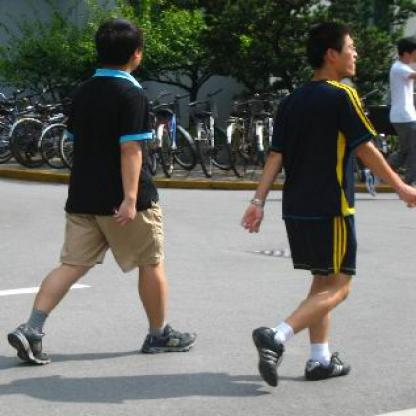person: (230, 18, 416, 388), (10, 16, 198, 371)
